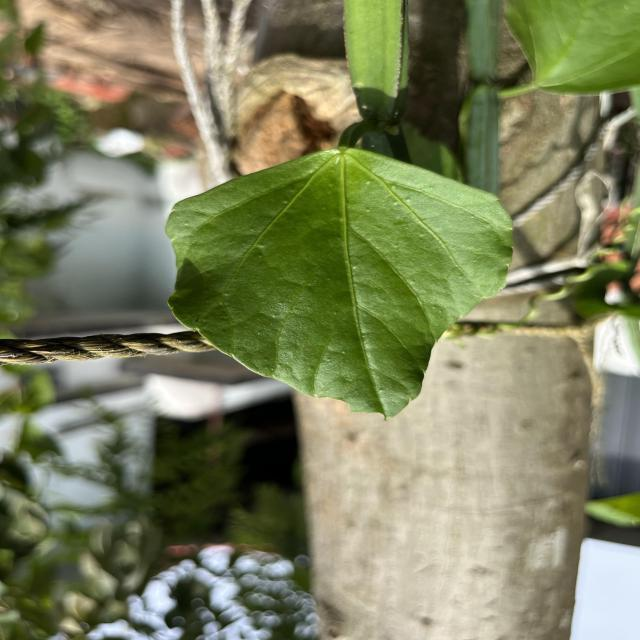Cissus quadrangularis: (160, 143, 518, 423)
